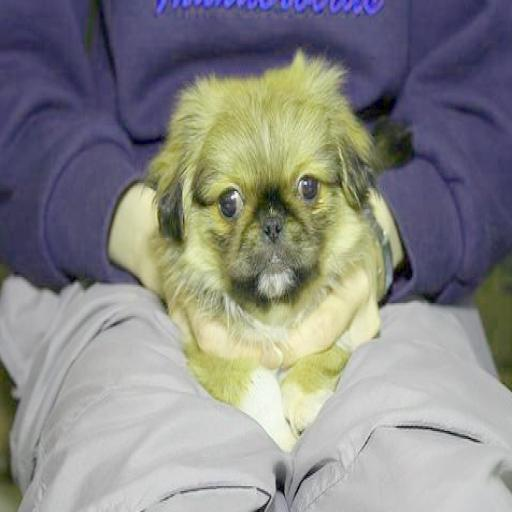dog_face: (164, 65, 373, 298)
